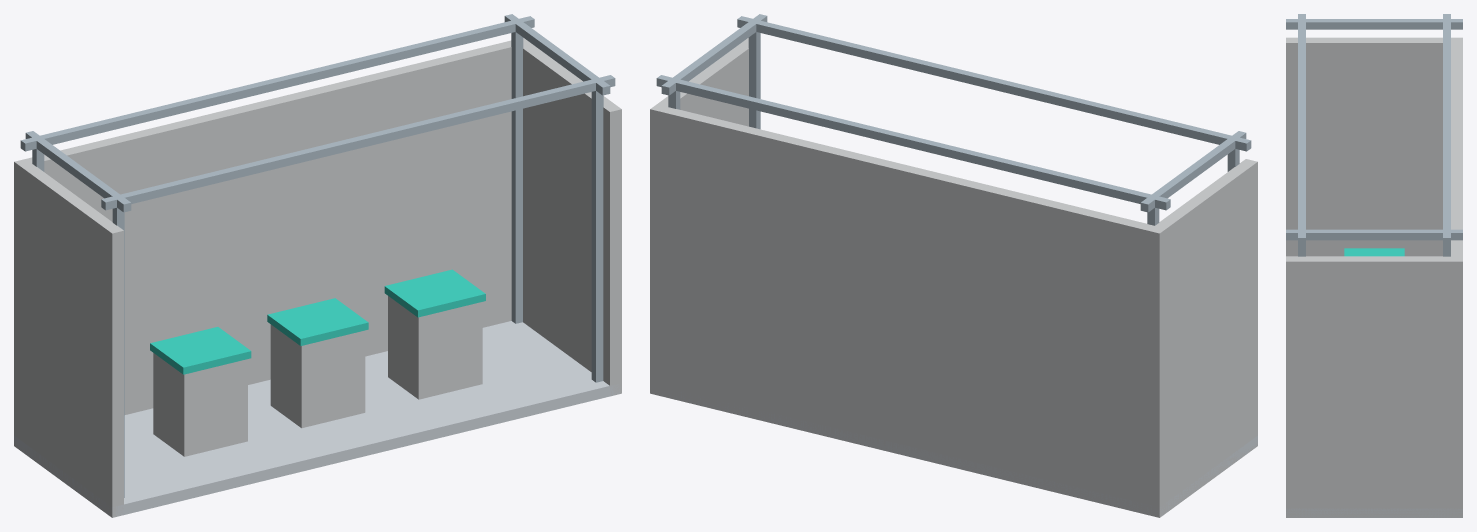
The picture shows the model from 3 angles, left to right: view 1: azimuth 30°, elevation 25°; view 2: azimuth 150°, elevation 25°; view 3: azimuth 270°, elevation 25°; orthographic projection. The views are drawn at different scales.
Parts seen in each view (by area): view 1: Exhibition Booth Concept; view 2: Exhibition Booth Concept; view 3: Exhibition Booth Concept.
Part boxes in pixels (bbox=[...]): Exhibition Booth Concept: bbox=[14, 14, 621, 517]; Exhibition Booth Concept: bbox=[650, 14, 1257, 517]; Exhibition Booth Concept: bbox=[1286, 14, 1462, 517].
Size of the model in its own units: 6 by 3.49 by 2.
